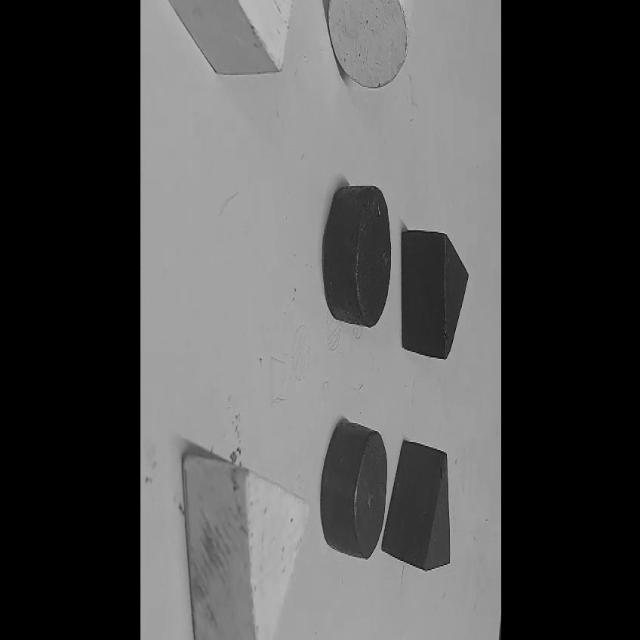bcircle: (322, 182, 392, 332)
btriangle: (401, 230, 468, 362)
rcube: (319, 420, 387, 562)
rtriangle: (381, 440, 451, 573)
ytriangle: (182, 447, 310, 638)
